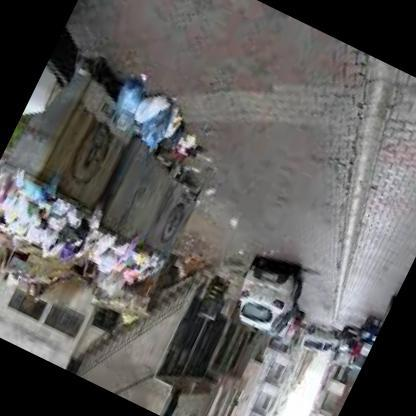Garbage: (61, 222, 170, 318), (0, 167, 101, 261), (112, 74, 192, 142), (134, 111, 213, 175), (37, 204, 99, 268)
